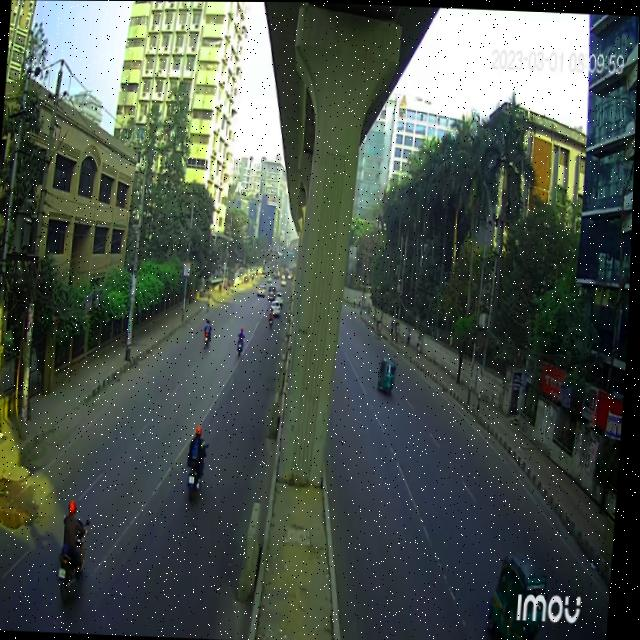cng: (486, 543, 555, 640), (378, 356, 402, 393)
